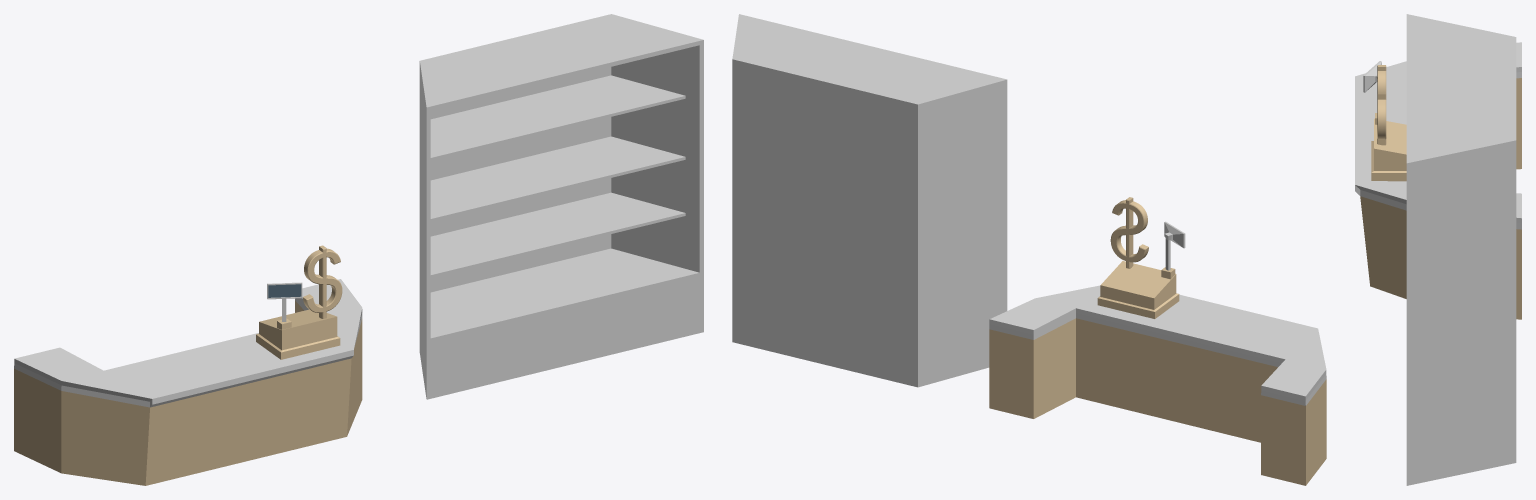
Rendered from Shop_stuff.FBX.
3 views of the same model, side by side, from view 1: azimuth 30°, elevation 25°; view 2: azimuth 150°, elevation 25°; view 3: azimuth 270°, elevation 25° (orthographic). The views are drawn at different scales.
Parts seen in each view (by area): view 1: Box024, Box022, Box023, Text001; view 2: Box024, Box022, Box023, Text001; view 3: Box024, Box022, Box023, Text001.
Boxes of the visible parts, left/top/right/bottom form: Box024: left=419, top=14, right=703, bottom=399; Box022: left=14, top=279, right=362, bottom=485; Box023: left=256, top=282, right=340, bottom=359; Text001: left=302, top=245, right=342, bottom=318; Box024: left=732, top=14, right=1007, bottom=387; Box022: left=989, top=285, right=1326, bottom=485; Box023: left=1097, top=221, right=1185, bottom=318; Text001: left=1110, top=197, right=1148, bottom=268; Box024: left=1406, top=14, right=1516, bottom=485; Box022: left=1355, top=42, right=1521, bottom=319; Box023: left=1363, top=61, right=1406, bottom=181; Text001: left=1377, top=65, right=1386, bottom=145.
Bounding box in the file's own units: 373 × 164 × 76.45.
